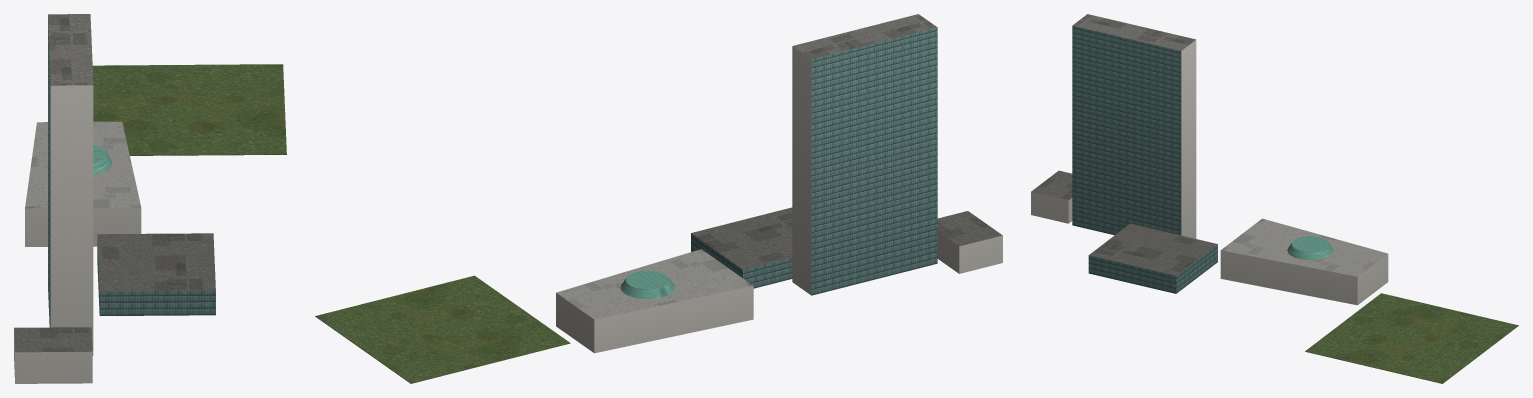
3 renders of one model, left to right at view 1: azimuth 30°, elevation 25°; view 2: azimuth 150°, elevation 25°; view 3: azimuth 270°, elevation 25°, orthographic. The views are drawn at different scales.
Visible parts, largest first — view 1: un; view 2: un; view 3: un.
Part boxes in pixels (box(x1,y1,x2,y2)): un: box(14, 14, 286, 383); un: box(315, 14, 1002, 383); un: box(1031, 14, 1518, 383).
Size of the model in its own units: 314 by 154 by 341.
11 materials, 11 textured.
